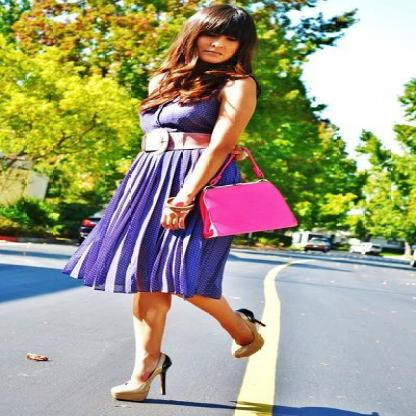bag: (188, 161, 297, 237)
dress: (55, 101, 243, 300)
shoe: (114, 309, 266, 402)
